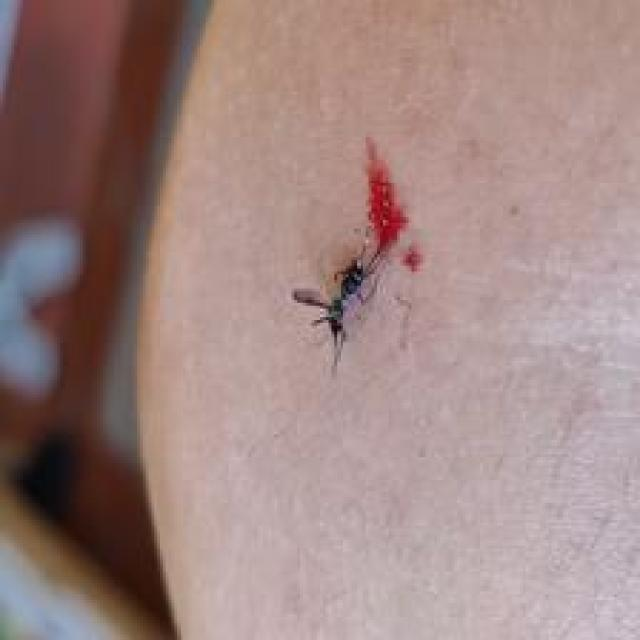Aedes albopictus: (290, 134, 424, 372)
